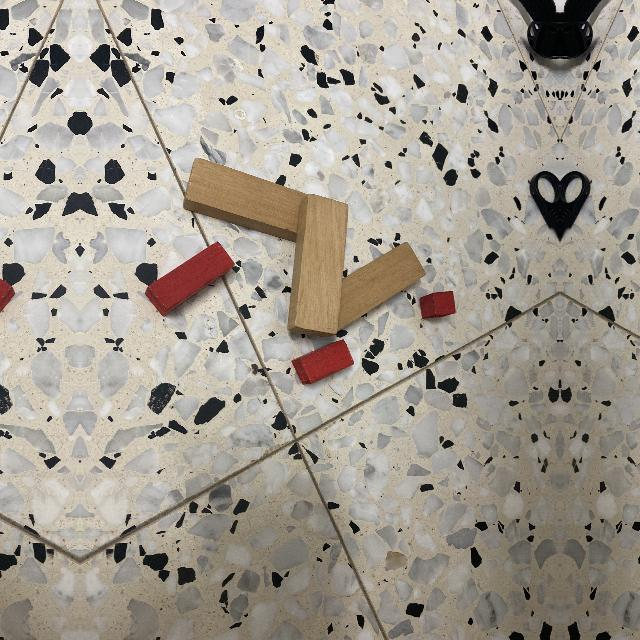jenga: (184, 158, 309, 243), (286, 194, 349, 337), (291, 340, 354, 385)
red block: (144, 241, 235, 317)
red cube: (419, 291, 455, 319)
